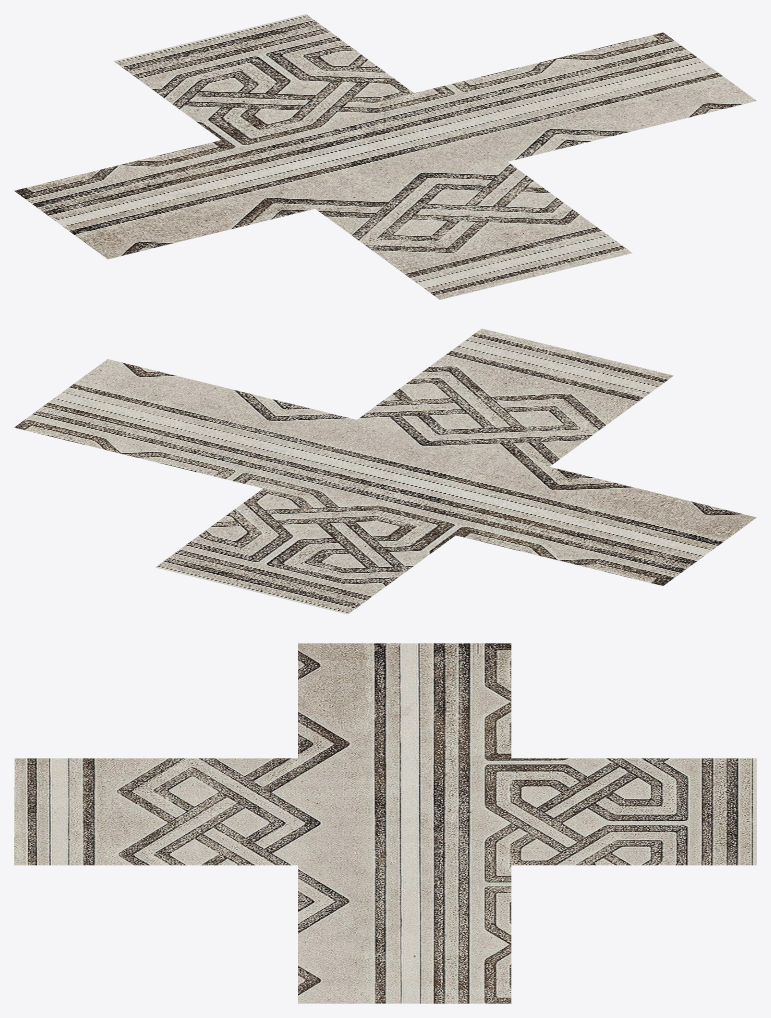
3 views of the same model, one above another, from view 1: azimuth 30°, elevation 25°; view 2: azimuth 150°, elevation 25°; view 3: azimuth 270°, elevation 25° (orthographic). The views are drawn at different scales.
Visible parts, largest first — view 1: 복도 바닥001; view 2: 복도 바닥001; view 3: 복도 바닥001.
Part boxes in pixels (box(x1,y1,x2,y2)): 복도 바닥001: box(14, 14, 756, 299); 복도 바닥001: box(14, 328, 756, 614); 복도 바닥001: box(14, 643, 756, 1003).
Size of the model in its own units: 905 by 5.68e-14 by 789.
